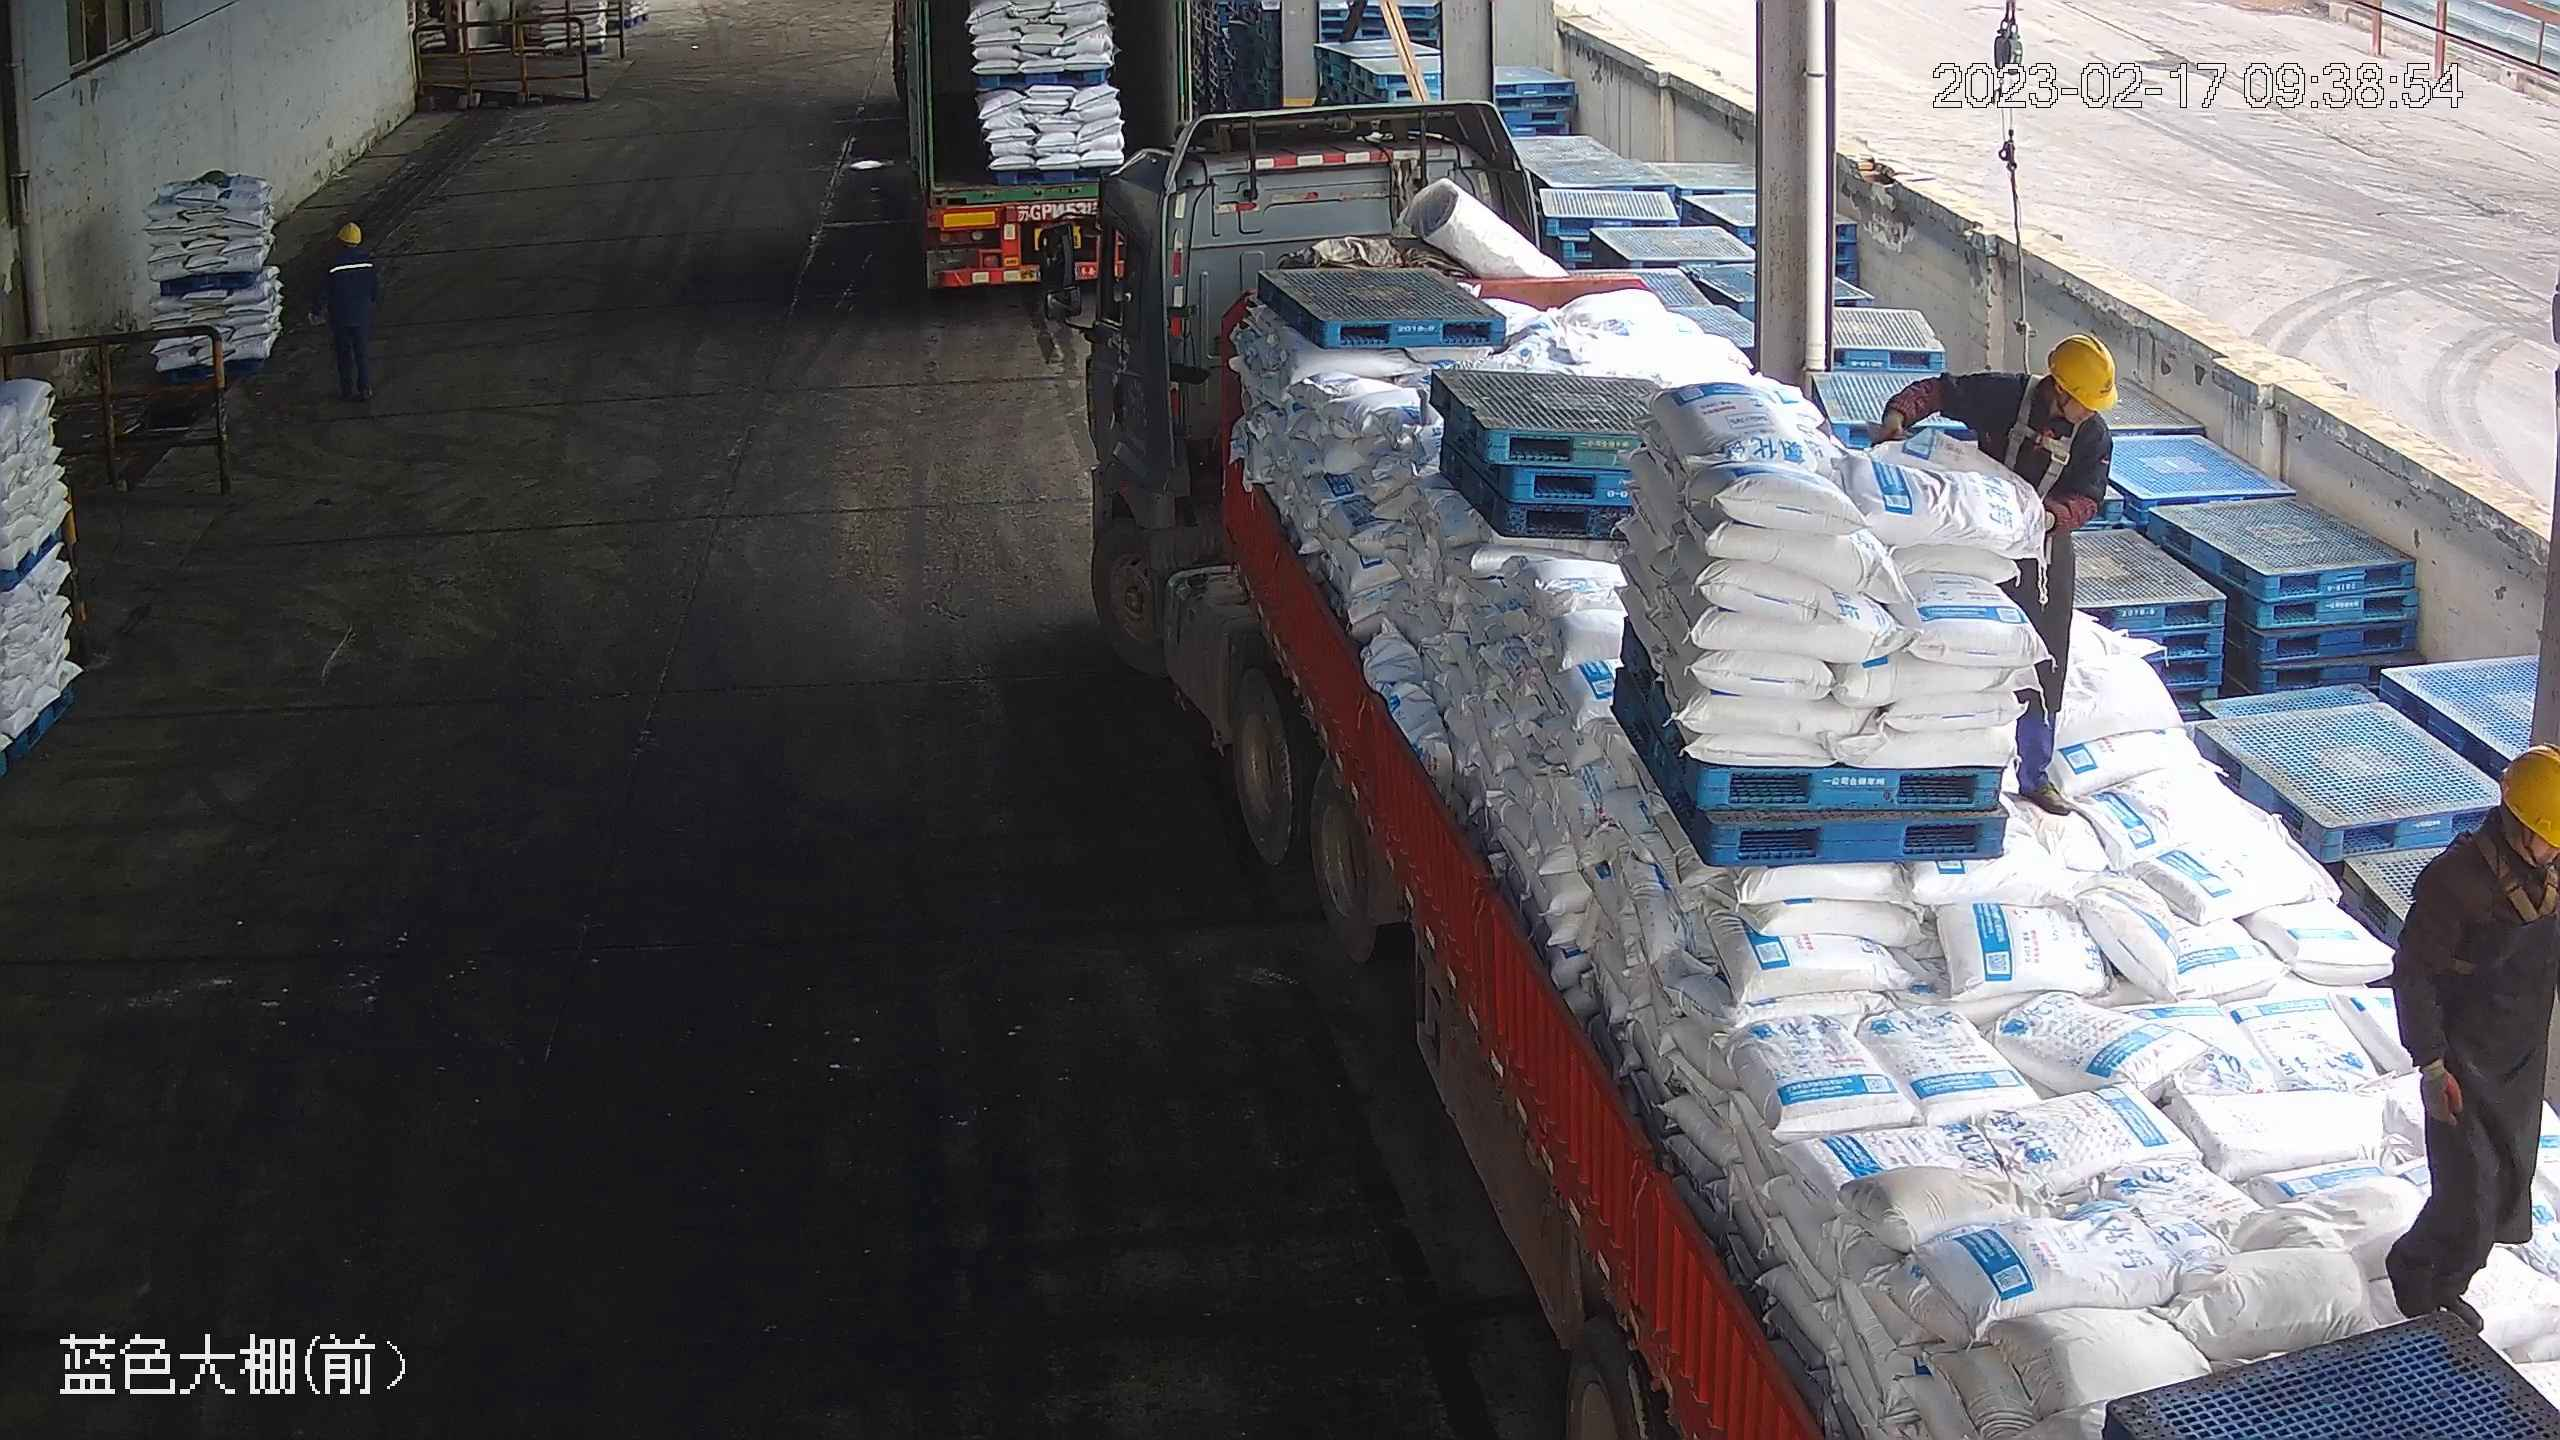belt: (2461, 841, 2558, 922), (2007, 392, 2080, 488)
head: (2421, 745, 2560, 930), (1983, 330, 2117, 460), (319, 221, 378, 275)
helmet: (2498, 742, 2560, 853), (2046, 328, 2122, 410), (334, 220, 364, 244)
people: (1865, 329, 2118, 820), (2375, 743, 2559, 1326), (312, 219, 386, 404)
truck: (1036, 98, 2553, 1440), (891, 1, 1187, 290)
